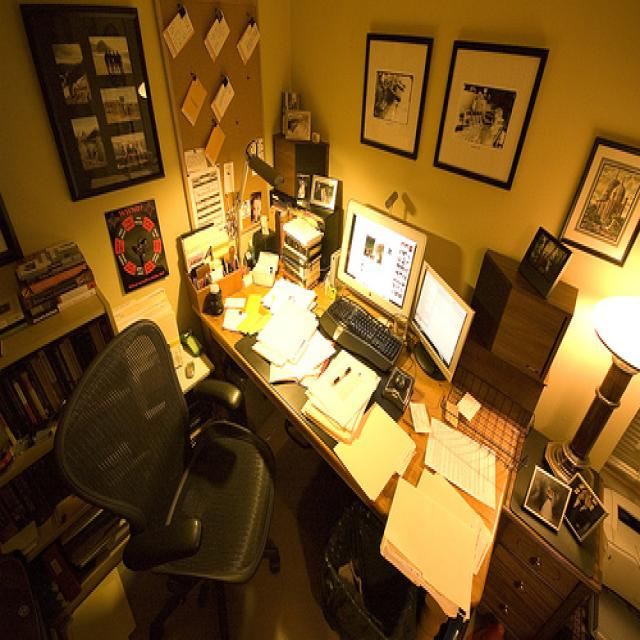Table: (187, 220, 527, 640), (0, 231, 123, 482), (501, 415, 638, 632)
chair: (47, 323, 283, 589)
